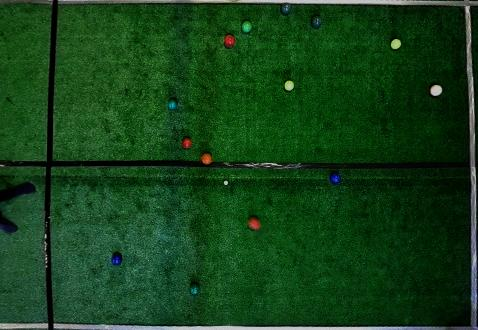blue: (330, 173, 341, 184), (112, 254, 122, 265)
green: (241, 21, 252, 33), (281, 3, 292, 15), (190, 284, 200, 295), (312, 16, 322, 27), (168, 99, 178, 109)
red: (248, 217, 261, 230), (429, 84, 443, 96), (201, 153, 213, 165), (224, 34, 235, 47), (182, 138, 192, 148)
vline: (1, 0, 59, 329), (461, 0, 477, 330)
white: (224, 181, 228, 185)
yellow: (390, 38, 402, 50), (284, 80, 294, 91)
